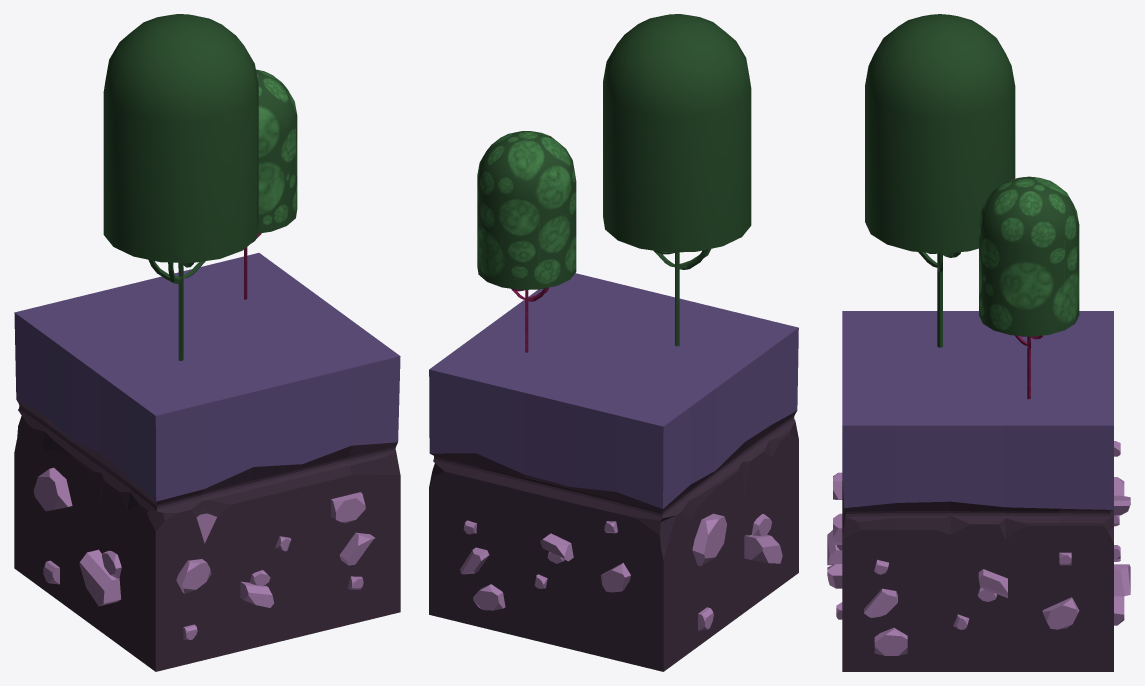
The model's file is TreeTile.fbx.
3 views of the same model, side by side, from view 1: azimuth 30°, elevation 25°; view 2: azimuth 150°, elevation 25°; view 3: azimuth 270°, elevation 25° (orthographic). The views are drawn at different scales.
Parts seen in each view (by area): view 1: Grass.002, Tree1, Tree1.002; view 2: Grass.002, Tree1, Tree1.002; view 3: Grass.002, Tree1, Tree1.002.
Part boxes in pixels (bbox=[...]): Grass.002: bbox=[14, 253, 400, 671]; Tree1: bbox=[103, 14, 258, 360]; Tree1.002: bbox=[244, 69, 297, 299]; Grass.002: bbox=[429, 273, 798, 671]; Tree1: bbox=[603, 14, 751, 346]; Tree1.002: bbox=[477, 131, 576, 352]; Grass.002: bbox=[827, 311, 1130, 671]; Tree1: bbox=[865, 14, 1015, 347]; Tree1.002: bbox=[979, 176, 1079, 399].
Size of the model in its own units: 227 by 464 by 224.
